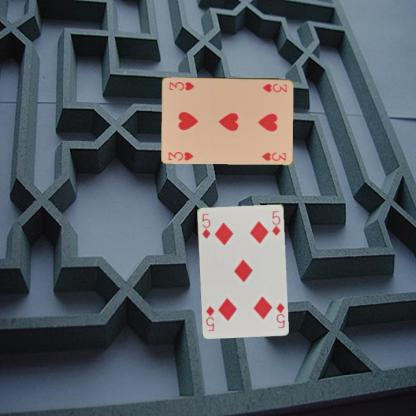3h: (166, 149, 195, 162), (260, 81, 288, 93)
5d: (200, 211, 212, 240), (274, 300, 286, 329)
